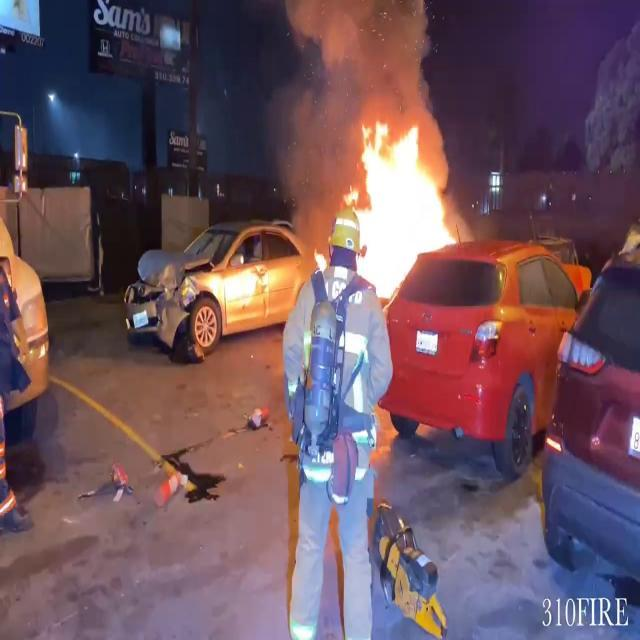Fire: (344, 116, 471, 298)
Smoke: (268, 0, 448, 146)
